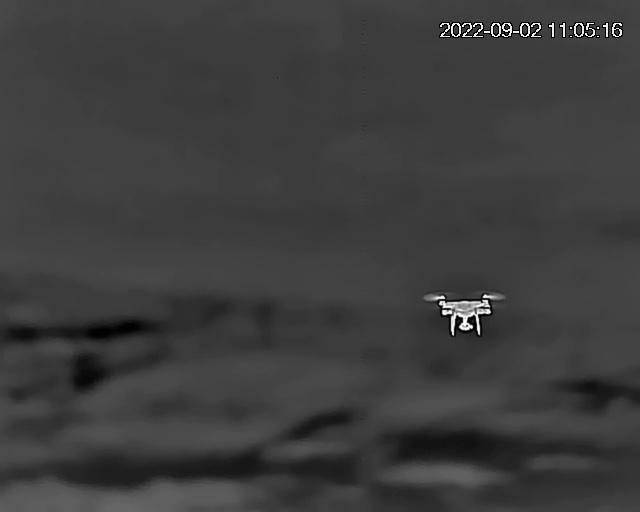DJI-Phantom: (425, 290, 507, 338)
